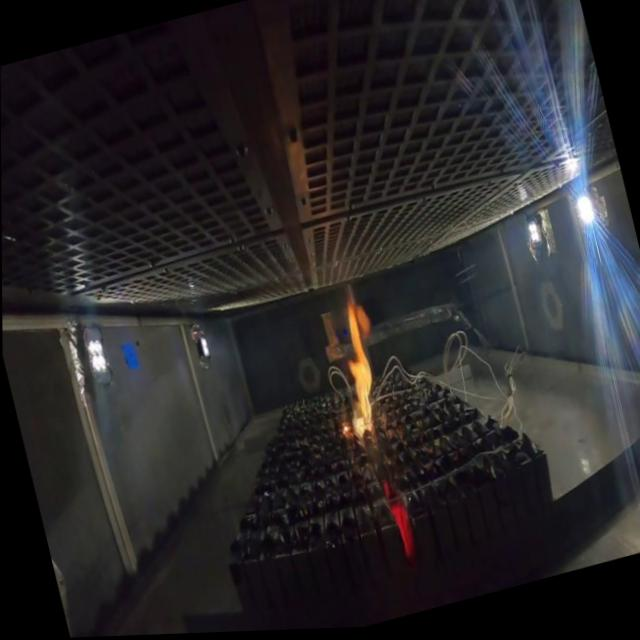fire: (316, 299, 398, 452)
